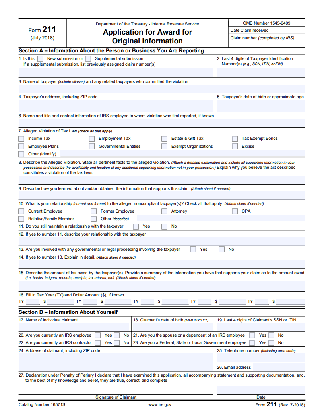checkbox: (159, 207, 169, 215), (229, 207, 239, 215), (188, 245, 198, 253), (216, 245, 226, 253), (35, 54, 45, 62), (16, 150, 25, 158), (87, 135, 96, 143), (159, 135, 168, 143), (230, 134, 239, 142), (230, 142, 239, 150), (17, 207, 26, 215), (17, 215, 26, 223), (89, 207, 98, 215), (89, 215, 98, 223), (131, 222, 140, 230), (160, 222, 169, 230), (93, 331, 102, 339), (93, 339, 101, 348), (112, 339, 121, 347), (247, 331, 256, 339), (112, 331, 120, 339), (267, 331, 275, 339), (248, 338, 256, 346), (267, 339, 275, 347), (17, 135, 26, 142), (16, 143, 25, 150), (87, 143, 96, 150), (159, 143, 168, 150), (84, 55, 93, 62)
textbox: (17, 110, 307, 129), (17, 346, 217, 373), (17, 76, 306, 94), (16, 91, 217, 113), (215, 52, 306, 81), (16, 383, 216, 396), (17, 314, 133, 333), (213, 92, 307, 114), (213, 345, 307, 364), (213, 315, 306, 333), (129, 314, 217, 333), (213, 383, 306, 396), (213, 361, 306, 373)
textline: (18, 66, 216, 80), (17, 238, 307, 247), (15, 284, 305, 293), (17, 177, 306, 186), (17, 192, 306, 201), (17, 261, 306, 270), (61, 149, 307, 156), (135, 215, 305, 222), (217, 298, 248, 306), (275, 298, 306, 306), (161, 298, 190, 306), (45, 298, 75, 305), (103, 299, 133, 306), (138, 298, 156, 306), (253, 298, 271, 306), (196, 298, 213, 306), (25, 298, 40, 306), (81, 299, 97, 306)
